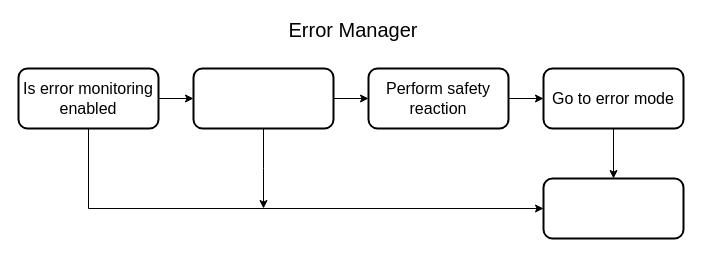
The diagram is 701 pixels wide and 256 high, and some of its shapes have lost their labels. The shapes that lost their labels are listed below. From the top down, each one's box as (x1, y1, x2, y2) in pixels, then its label:
(192, 67, 334, 129): Obtain error status
(542, 177, 684, 239): Reset safety reaction
